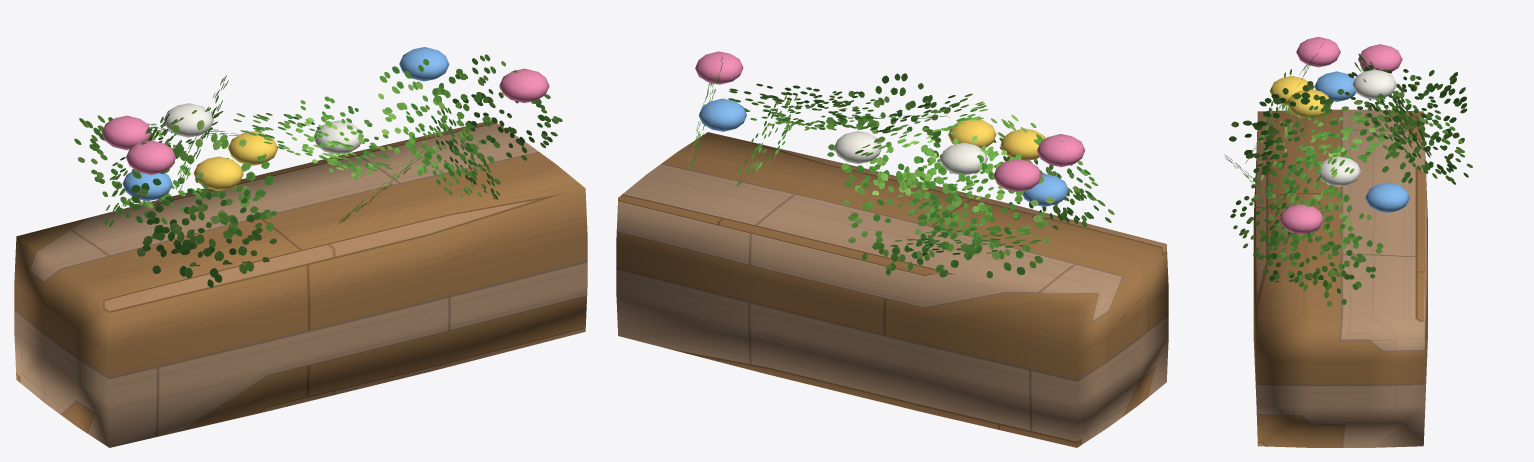
The model's file is prop_planter.glb.
The picture shows the model from 3 angles, left to right: view 1: azimuth 30°, elevation 25°; view 2: azimuth 150°, elevation 25°; view 3: azimuth 270°, elevation 25°; orthographic projection. The views are drawn at different scales.
Visible parts, largest first — view 1: prop_planter_wood, prop_planter; view 2: prop_planter_wood, prop_planter; view 3: prop_planter_wood, prop_planter.
Part boxes in pixels (x1=…): prop_planter_wood: x1=14, y1=120, x2=587, y2=447; prop_planter: x1=74, y1=47, x2=562, y2=287; prop_planter_wood: x1=616, y1=132, x2=1168, y2=447; prop_planter: x1=687, y1=51, x2=1114, y2=278; prop_planter_wood: x1=1253, y1=109, x2=1427, y2=447; prop_planter: x1=1224, y1=37, x2=1472, y2=306.
Bounding box in the file's own units: 1.03 × 0.6344 × 0.6481.
3 materials, 2 textured.
